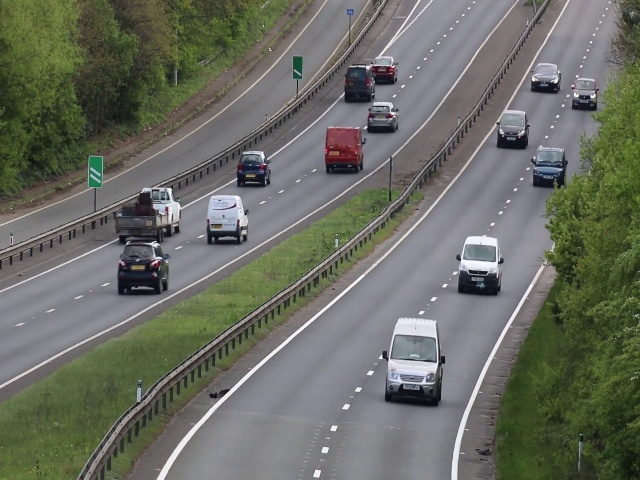car: (384, 315, 446, 409), (115, 186, 180, 242), (456, 233, 503, 300), (114, 241, 171, 294), (205, 193, 250, 244), (324, 126, 368, 175), (234, 149, 273, 187), (495, 108, 530, 149), (531, 148, 566, 187), (344, 64, 375, 103), (528, 60, 563, 94), (366, 101, 399, 132), (572, 78, 597, 111), (372, 57, 396, 83)
